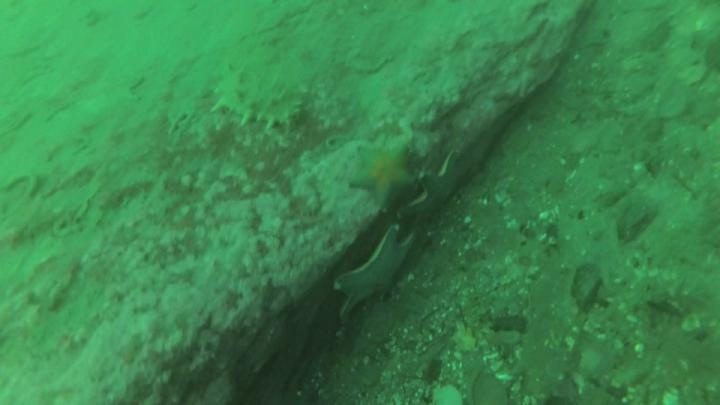holothurian: (212, 64, 305, 128)
starfish: (328, 225, 416, 327), (401, 153, 475, 220), (351, 142, 421, 211)
